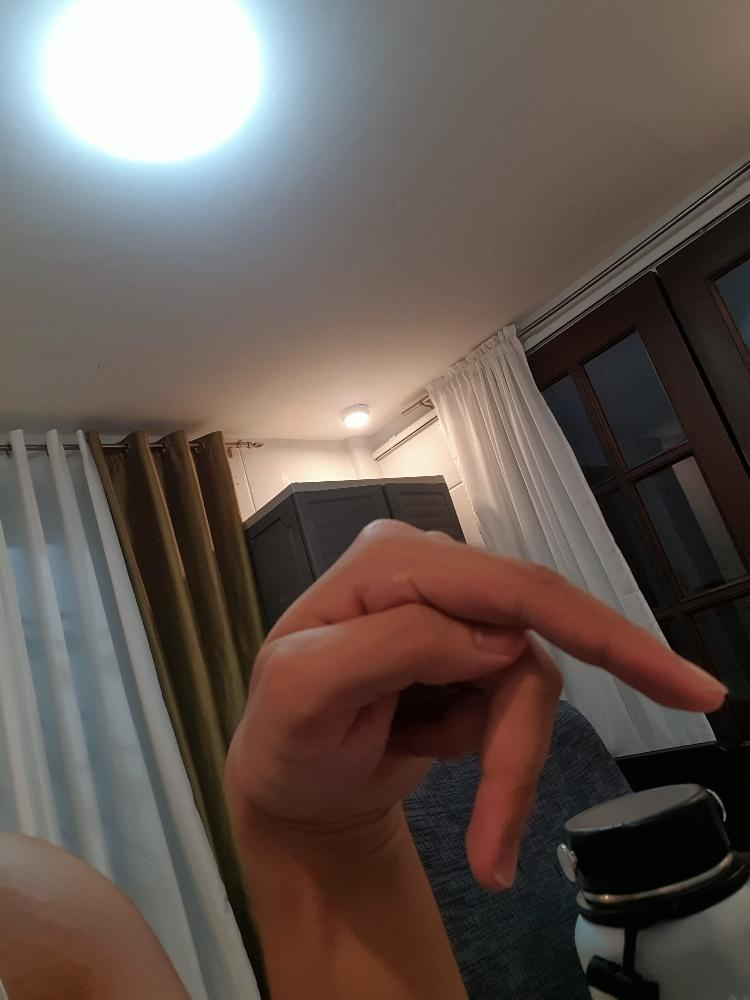p: (224, 511, 731, 897)
